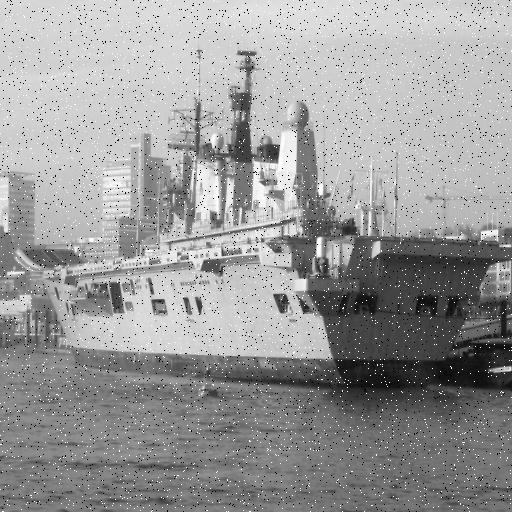Portanaves: (9, 35, 512, 397)
